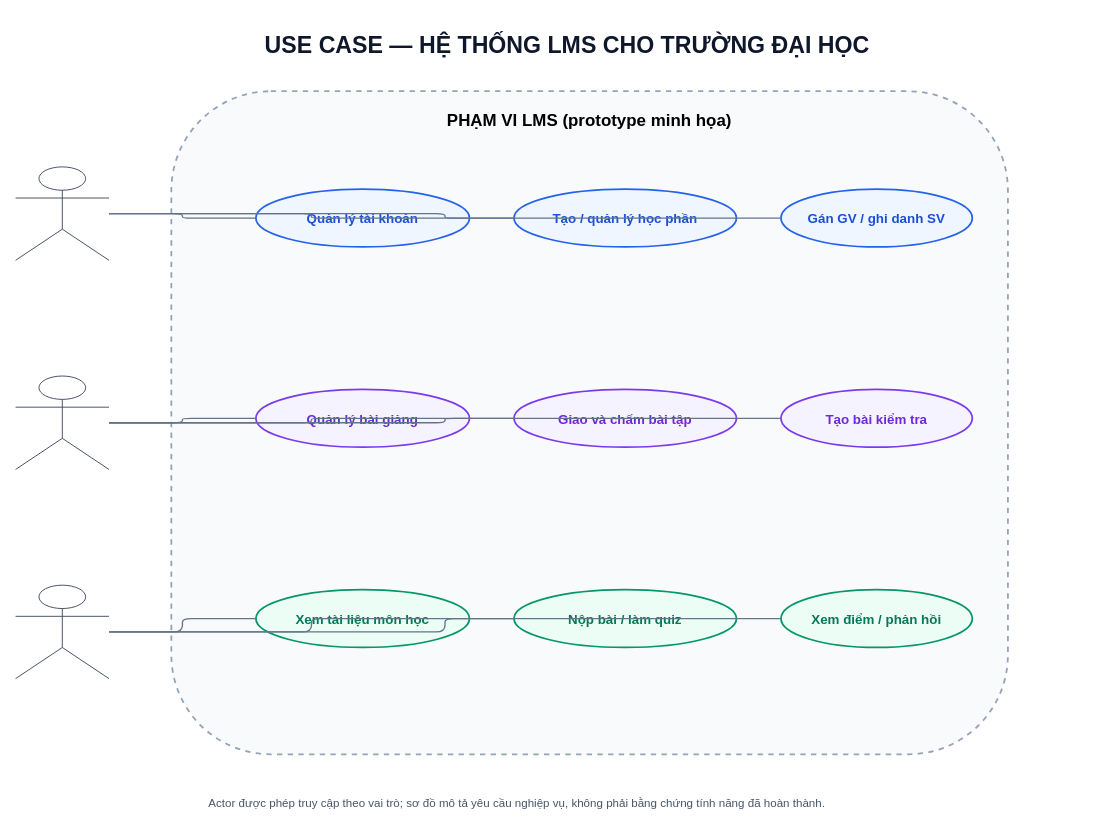
Image size: 1117x837. Some labels were removed from this diagram. The shapes that lost their labels are listed below. From the top down, each one's centre as x and y in pixels, then its label:
At pixel 62 213: "Admin".
At pixel 62 422: "Giảng viên".
At pixel 62 631: "Sinh viên".
